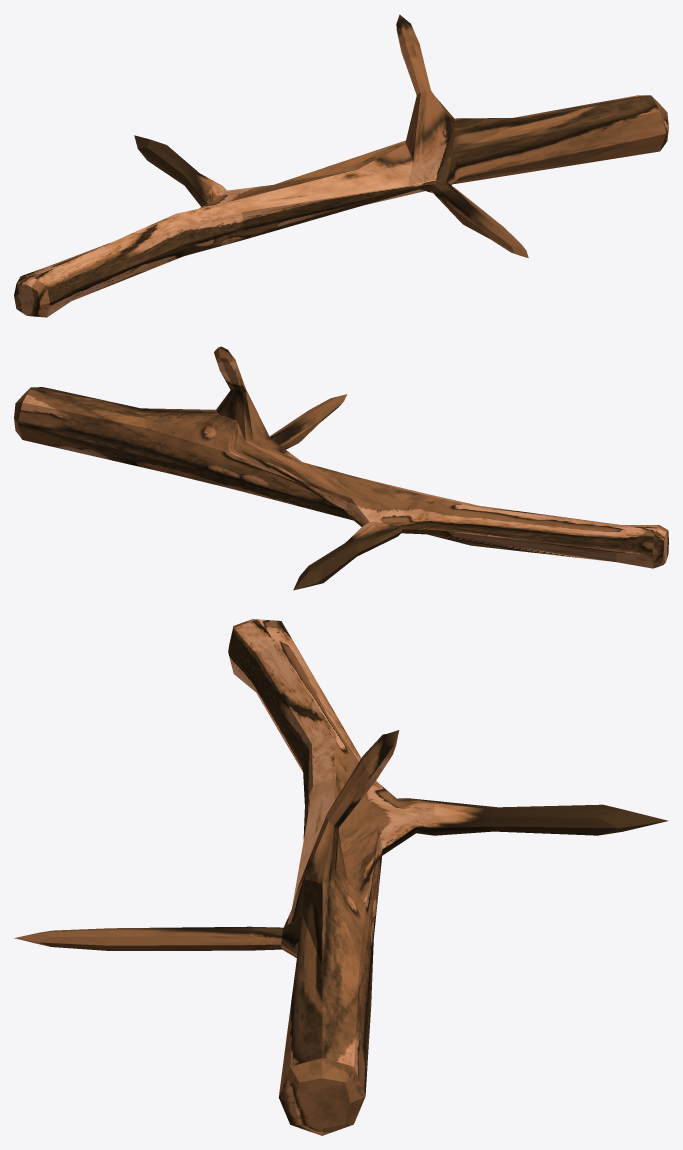
The model's file is mod_obj_twig.fbx.
3 views of the same model, one above another, from view 1: azimuth 30°, elevation 25°; view 2: azimuth 150°, elevation 25°; view 3: azimuth 270°, elevation 25° (orthographic). The views are drawn at different scales.
Parts seen in each view (by area): view 1: mesh_obj_fallenTree; view 2: mesh_obj_fallenTree; view 3: mesh_obj_fallenTree.
Part boxes in pixels (x1,y1,x2,y2): mesh_obj_fallenTree: (14, 14, 668, 317); mesh_obj_fallenTree: (14, 346, 668, 590); mesh_obj_fallenTree: (14, 619, 668, 1135).
Bounding box in the file's own units: 863 × 213 × 511.
